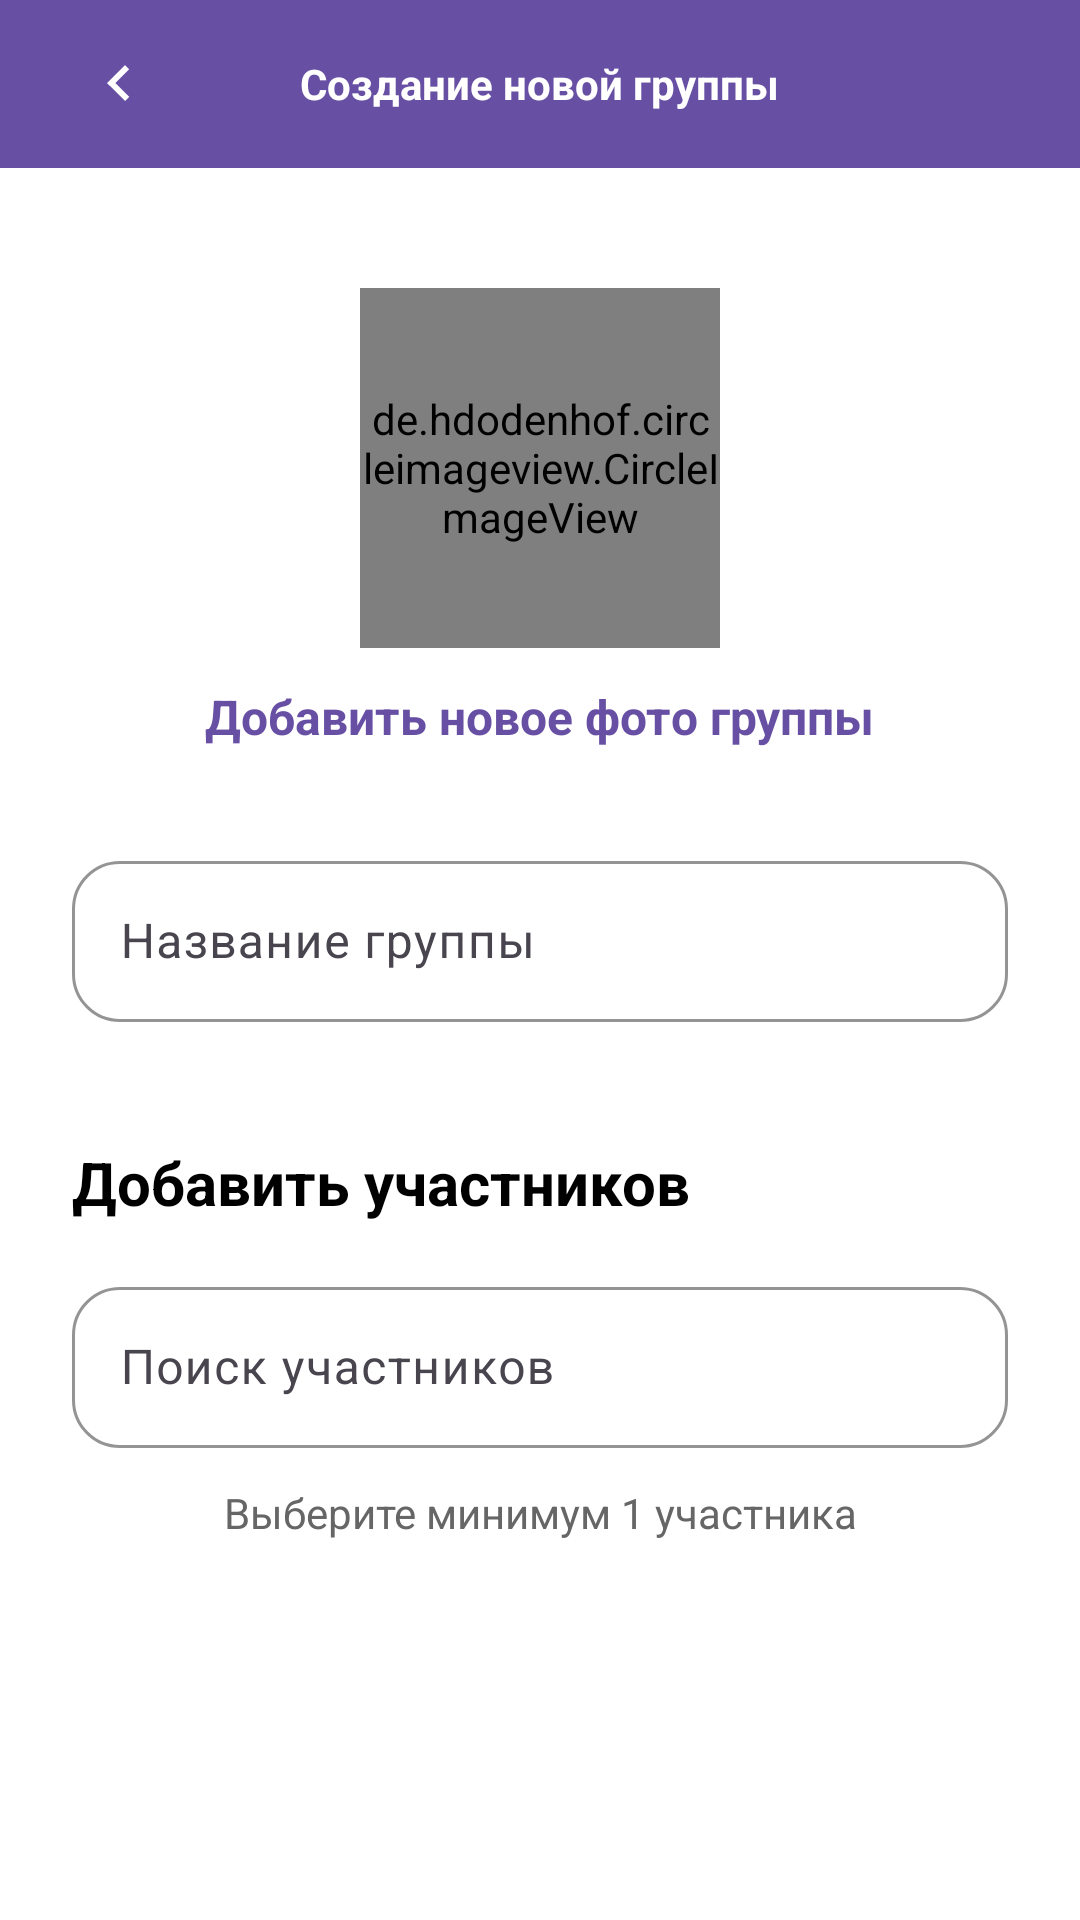

Named icons in this screenshot (1080px×1920px) and their bounding boxes, (x1, y1, x2, y2):
key exit: (107, 65, 129, 101)
